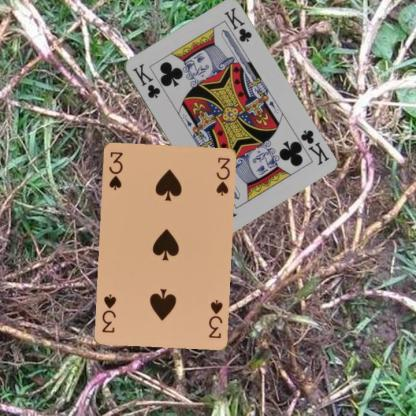3s: (106, 148, 124, 192), (206, 296, 224, 340)
Kc: (297, 127, 330, 167), (129, 61, 162, 99)
